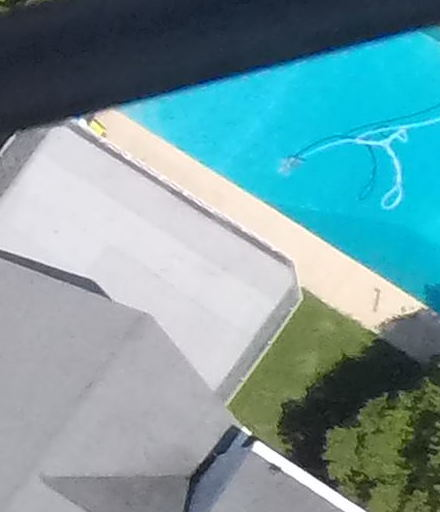pool: (90, 22, 439, 341)
